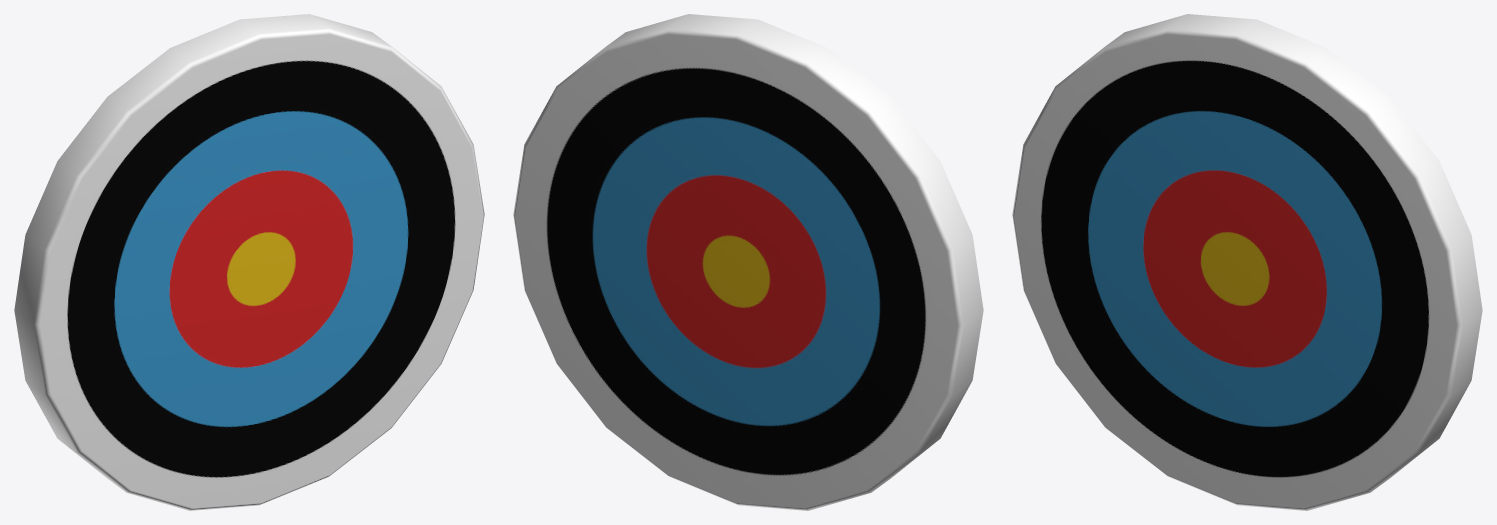
Rendered from dart target.fbx.
The picture shows the model from 3 angles, left to right: view 1: azimuth 30°, elevation 25°; view 2: azimuth 150°, elevation 25°; view 3: azimuth 330°, elevation 25°; orthographic projection.
Visible parts, largest first — view 1: dart_target; view 2: dart_target; view 3: dart_target.
Boxes of the visible parts, box(x1,y1,x2,y2) form: dart_target: box(14, 14, 484, 510); dart_target: box(513, 14, 983, 510); dart_target: box(1012, 14, 1482, 510).
Size of the model in its own units: 52.34 by 52.34 by 4.87.
1 material, 1 textured.
